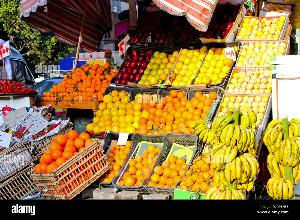apple: (194, 45, 238, 85), (236, 14, 288, 42), (113, 49, 153, 85), (230, 69, 276, 96), (234, 44, 288, 66), (140, 53, 176, 83), (224, 98, 262, 123), (172, 52, 198, 88)
banana: (197, 112, 263, 202), (262, 116, 300, 202)
orange: (31, 126, 91, 182), (146, 90, 216, 136), (40, 61, 114, 104), (90, 88, 146, 132), (150, 144, 194, 186), (96, 136, 130, 184), (181, 149, 219, 191), (122, 144, 158, 186)
strawberry: (0, 67, 38, 99)
